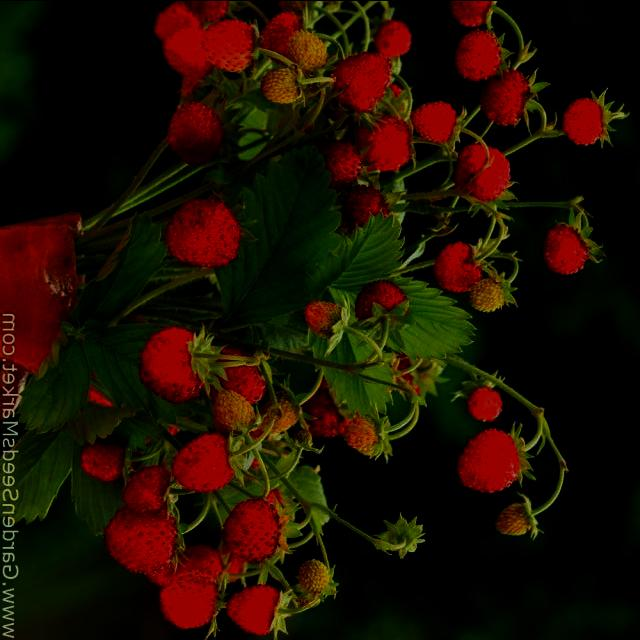ripe: (129, 324, 213, 403), (162, 192, 245, 268), (100, 504, 185, 576), (451, 426, 537, 496), (170, 426, 242, 499), (162, 99, 233, 168), (455, 136, 524, 202), (222, 496, 287, 566), (424, 238, 494, 300), (151, 570, 222, 630), (357, 108, 415, 180), (552, 89, 616, 153), (225, 580, 288, 640), (480, 70, 540, 132), (200, 12, 257, 76), (160, 532, 224, 586), (350, 281, 410, 338), (333, 47, 388, 108), (410, 92, 464, 154), (341, 185, 404, 238), (542, 218, 594, 281), (122, 456, 174, 516), (454, 26, 504, 88), (252, 2, 304, 60), (72, 431, 130, 481), (151, 27, 208, 76), (227, 348, 270, 406), (377, 14, 420, 64), (148, 2, 202, 40), (464, 384, 514, 424), (317, 139, 363, 182), (441, 0, 498, 24)
unripe: (285, 548, 350, 606), (485, 491, 543, 546), (338, 409, 390, 470), (464, 270, 522, 320), (204, 386, 262, 434), (260, 60, 304, 115), (286, 28, 331, 74)
